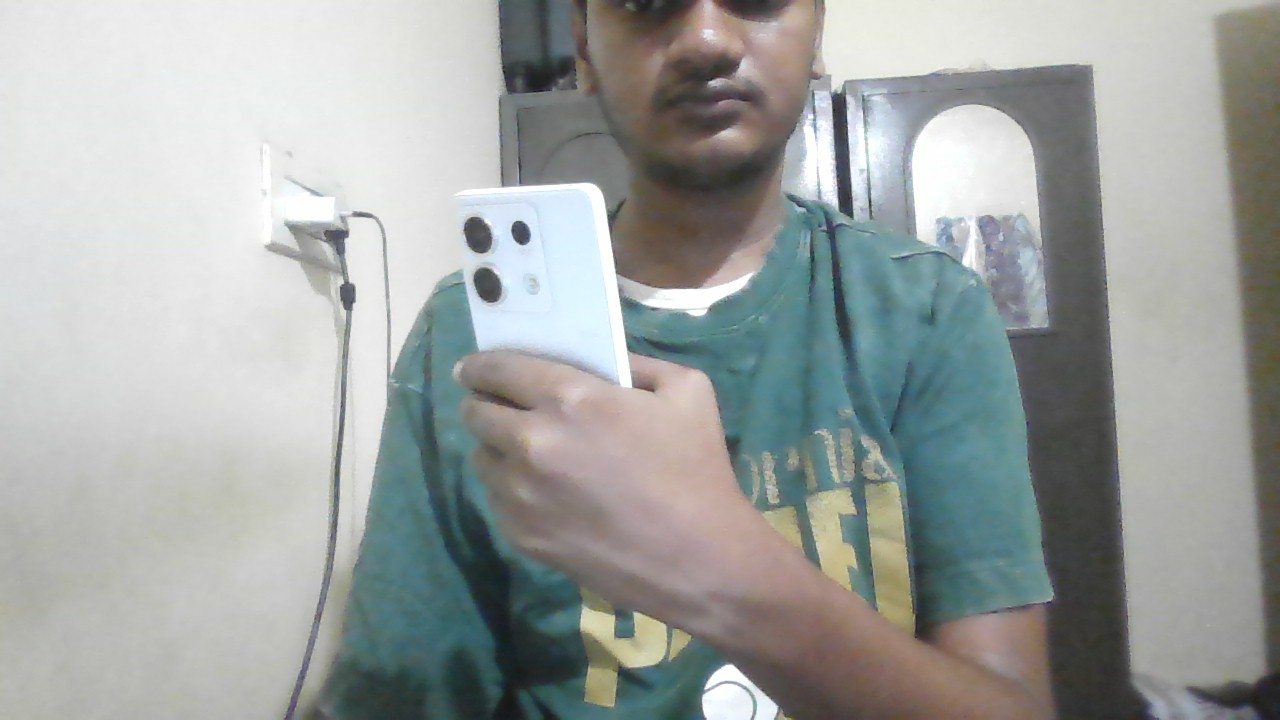phone: (443, 185, 620, 334)
